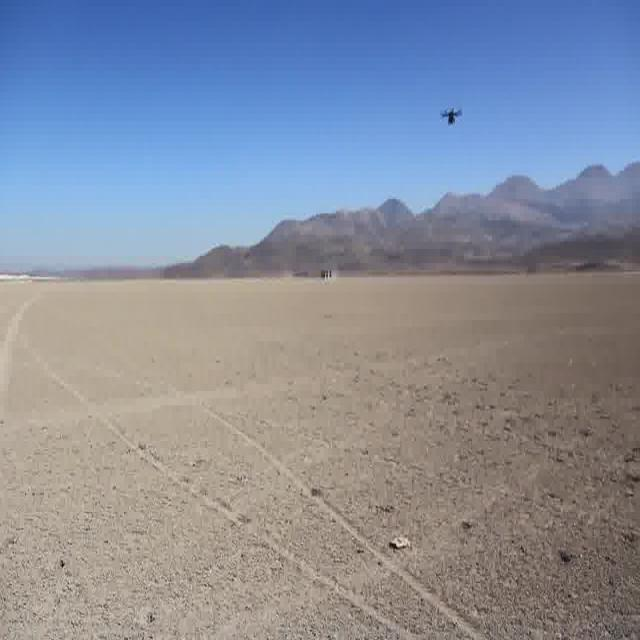drone: (437, 101, 465, 130)
